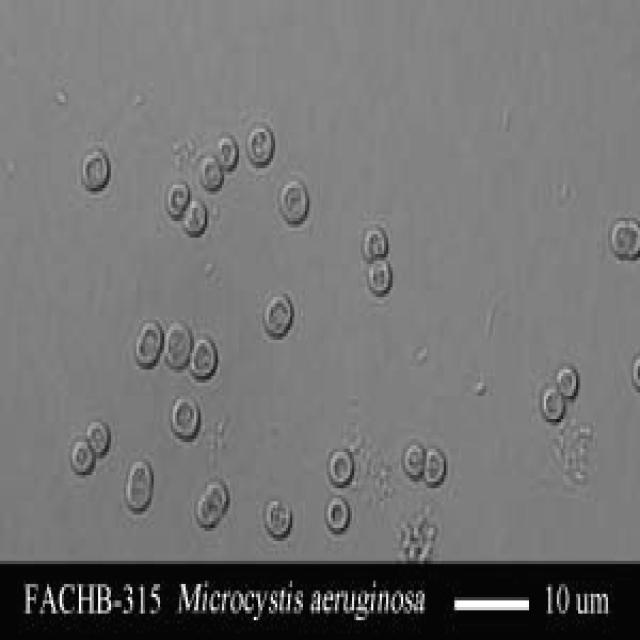Blue Green Algae: (278, 178, 312, 228), (262, 290, 294, 340), (246, 122, 276, 172), (262, 495, 294, 541), (164, 320, 194, 369), (170, 393, 200, 442), (81, 148, 111, 194), (326, 446, 356, 492), (190, 334, 220, 379), (164, 182, 190, 228), (365, 254, 392, 297), (124, 478, 154, 515), (324, 492, 350, 534), (85, 416, 111, 458), (184, 198, 209, 241), (205, 472, 230, 514), (215, 132, 239, 175), (68, 439, 96, 475), (361, 224, 388, 261), (198, 155, 224, 191), (401, 439, 425, 478), (194, 495, 220, 531), (424, 446, 446, 488), (559, 360, 580, 402), (610, 218, 632, 257), (542, 386, 565, 422), (141, 317, 162, 353), (134, 336, 156, 369)
